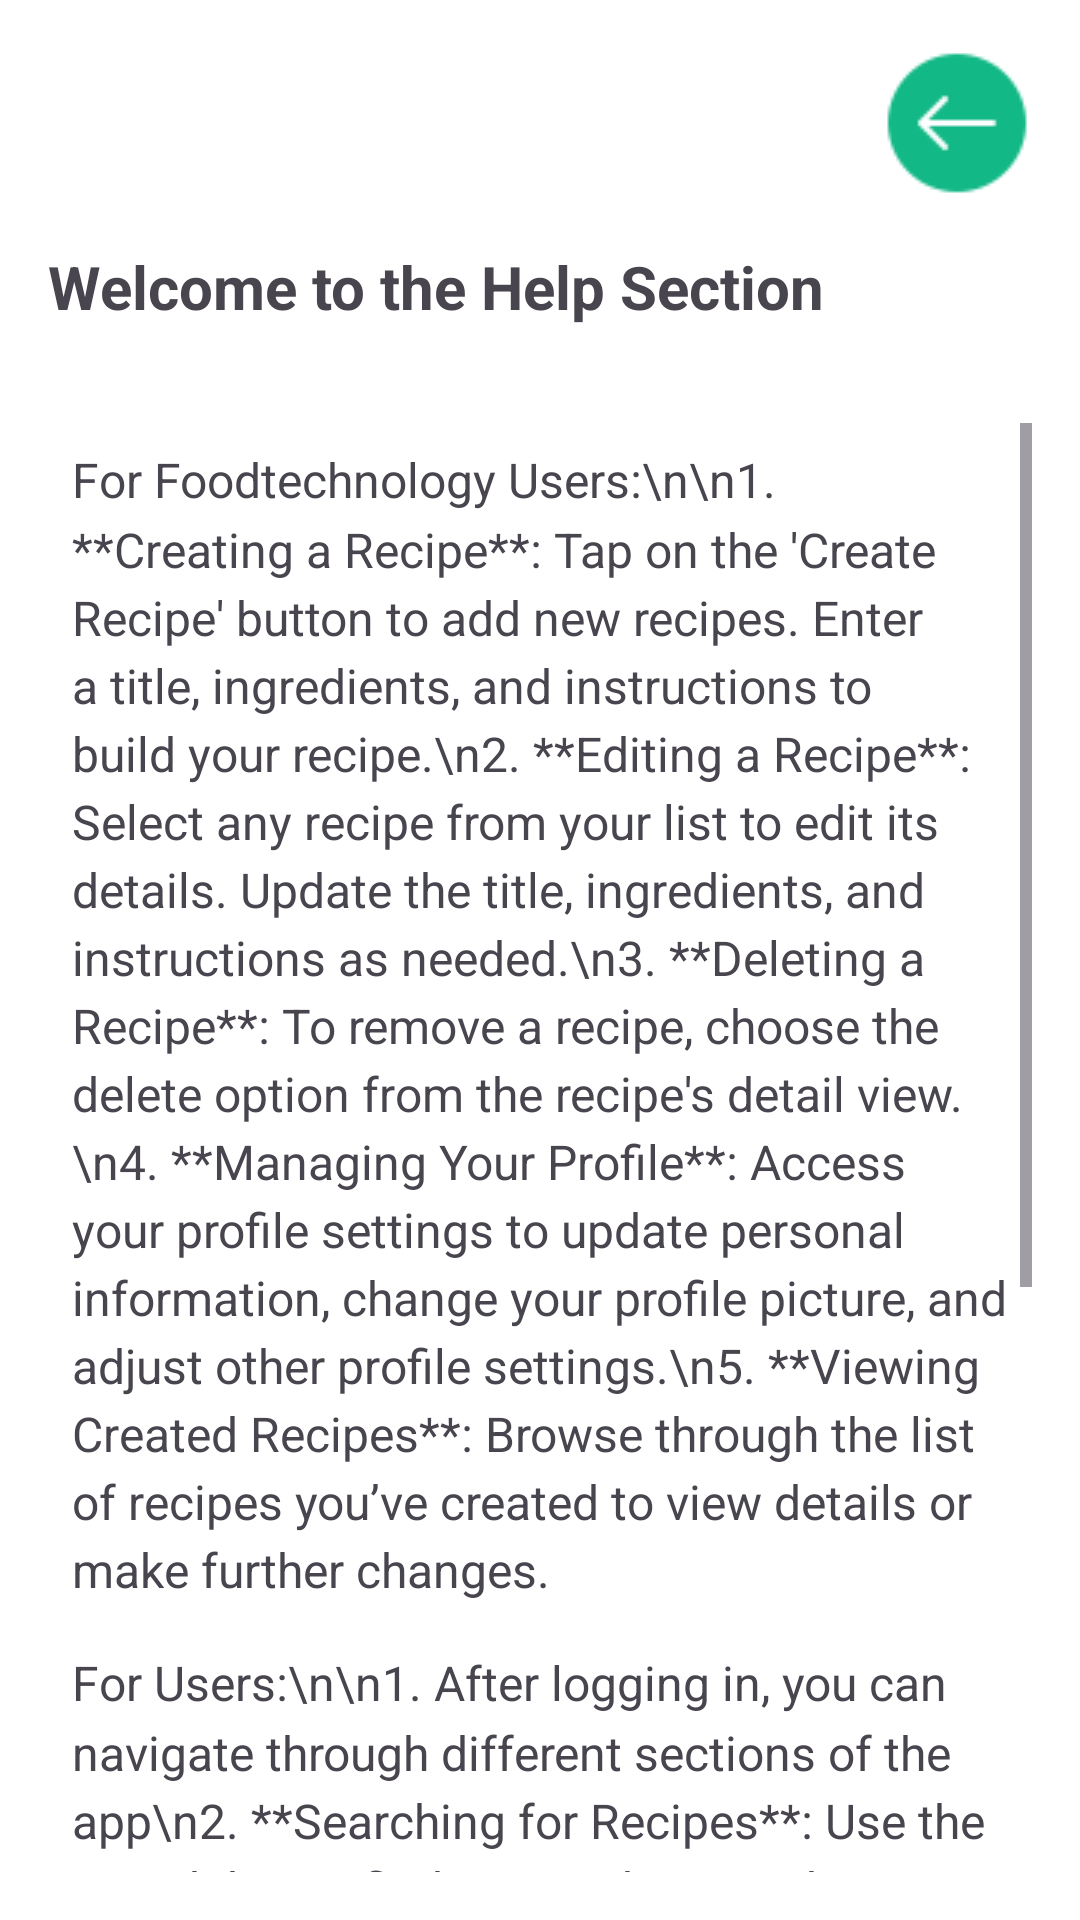

Icon bounding boxes for this 1080*1920 phone screenshot, format (x1, y1, x2, y2):
back: (887, 53, 1027, 193)
